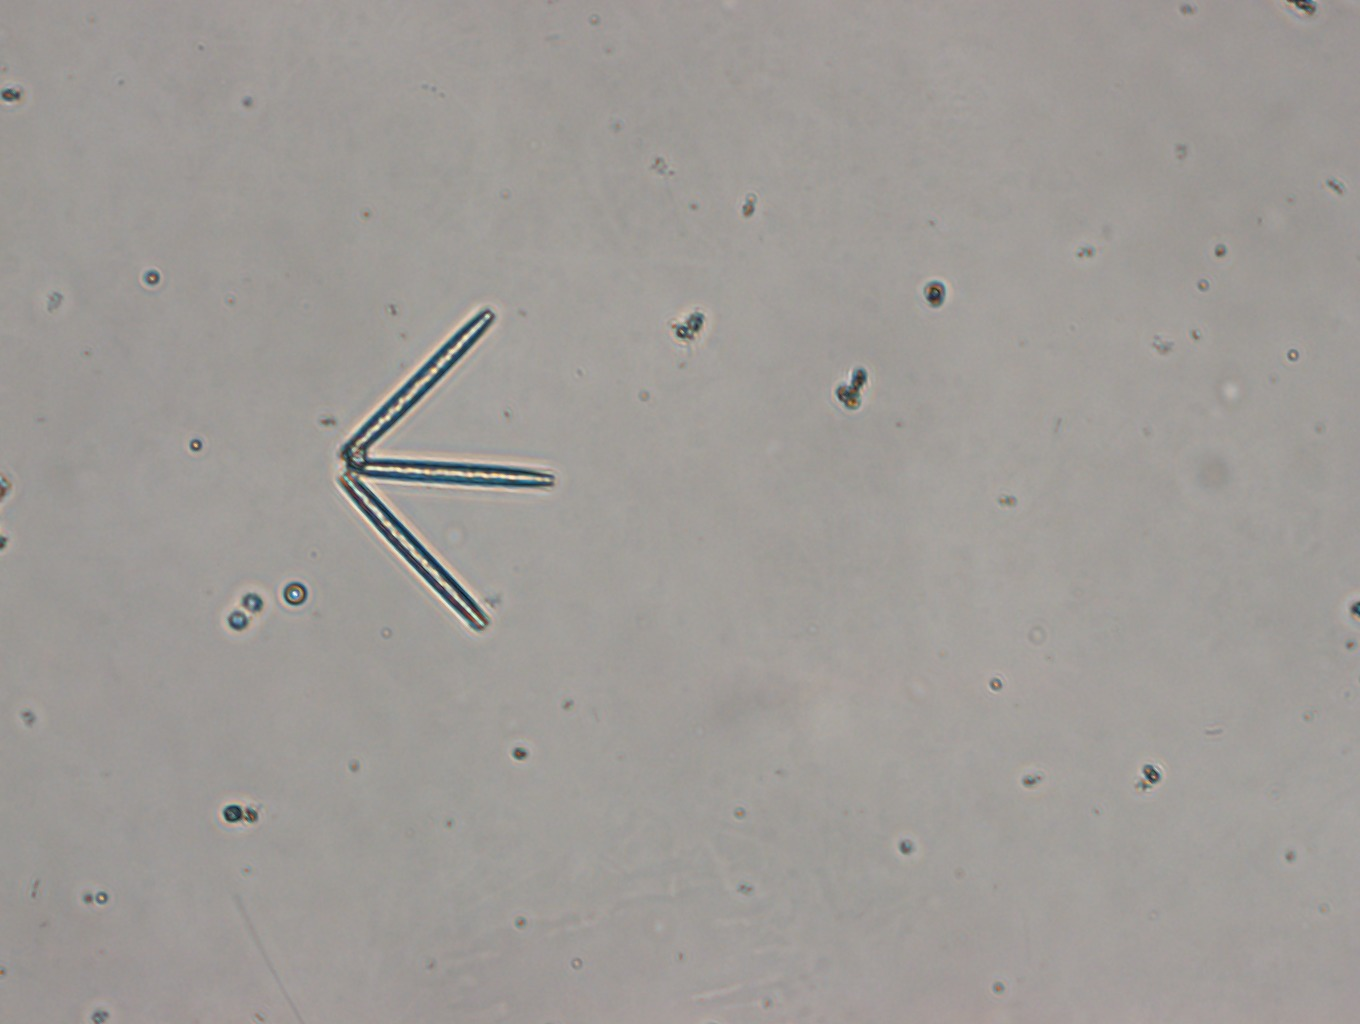thalassionema nitzschioides: (335, 307, 557, 630)
